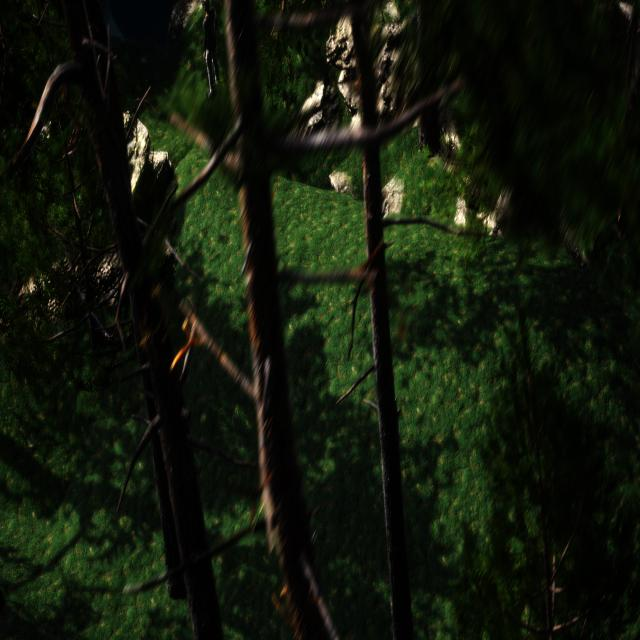Human: (202, 0, 221, 101)
